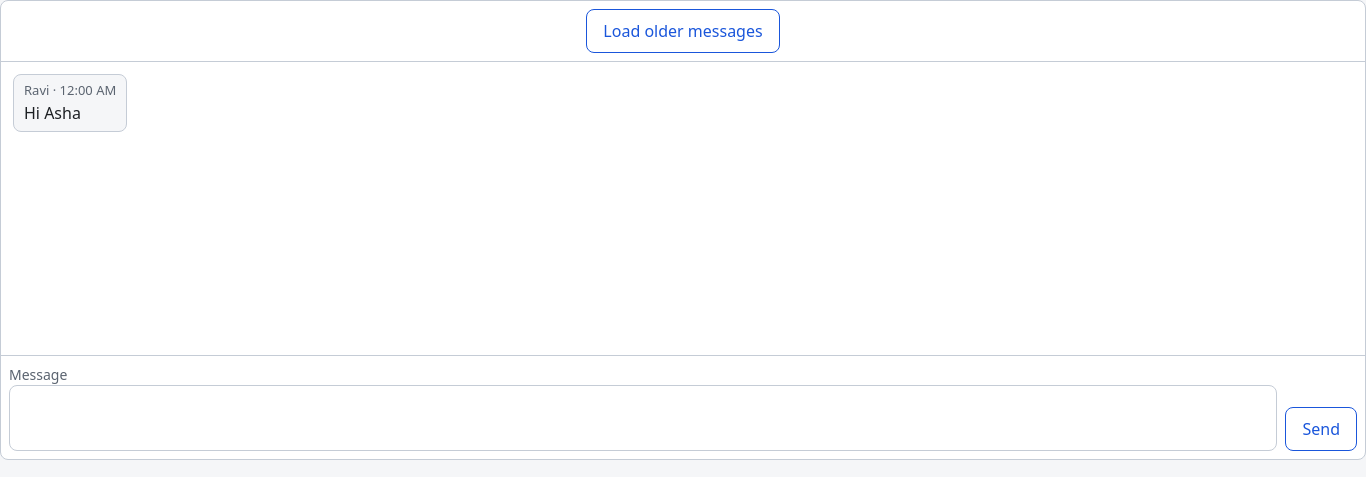
Test: Chat › shows a failed message with Retry, and Retry sends the same clientId once
Later steps or results of the test are not shown.
In the text box: (643, 418) x1=9 y1=385 x2=1278 y2=451, type "See you at five"
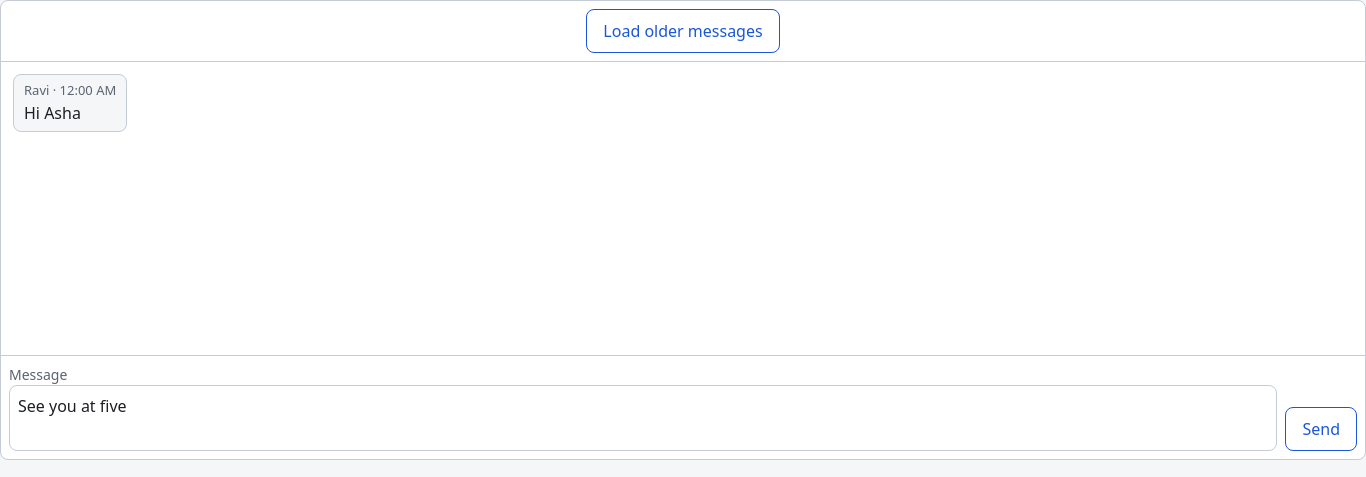
Press Enter in the text box, box x1=9 y1=385 x2=1278 y2=451
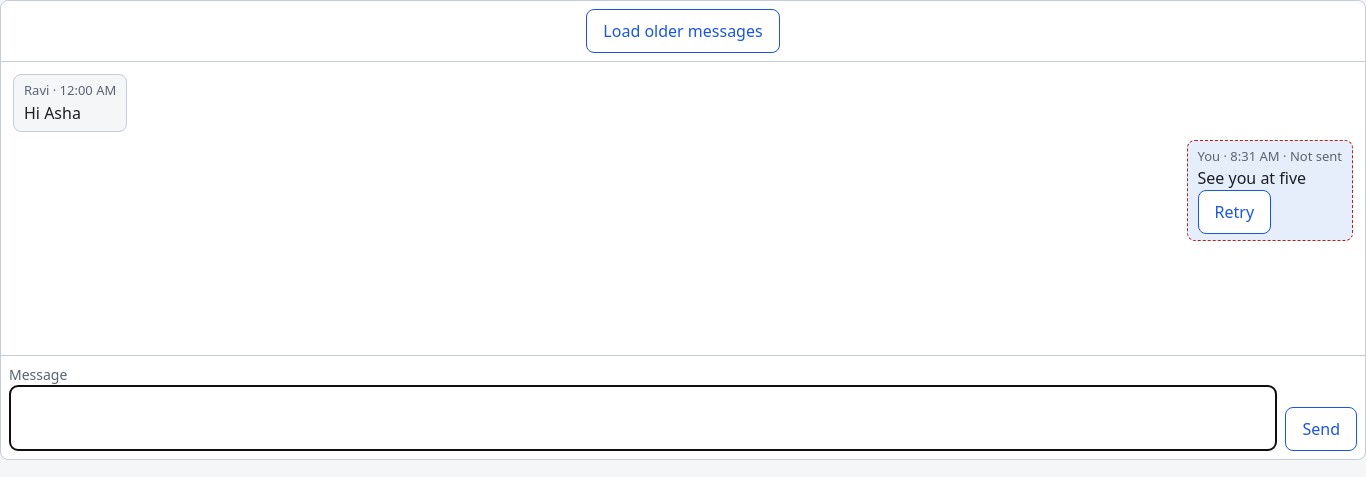
Now the text "You · 8:31 AM · Not sent" is shown, box x1=1198 y1=146 x2=1342 y2=166
